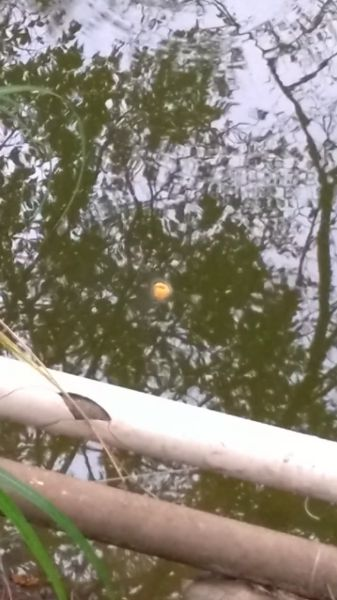eggs: (149, 279, 176, 301)
